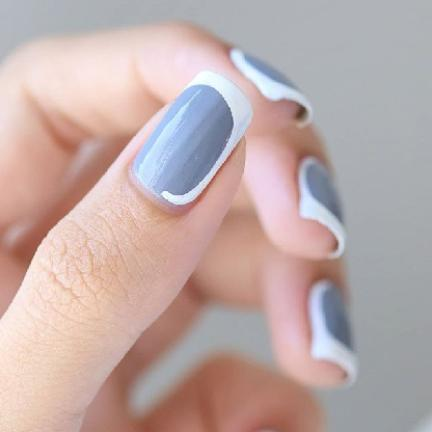Nail: (132, 71, 251, 206), (230, 49, 313, 124), (310, 280, 357, 383), (299, 156, 346, 258)
